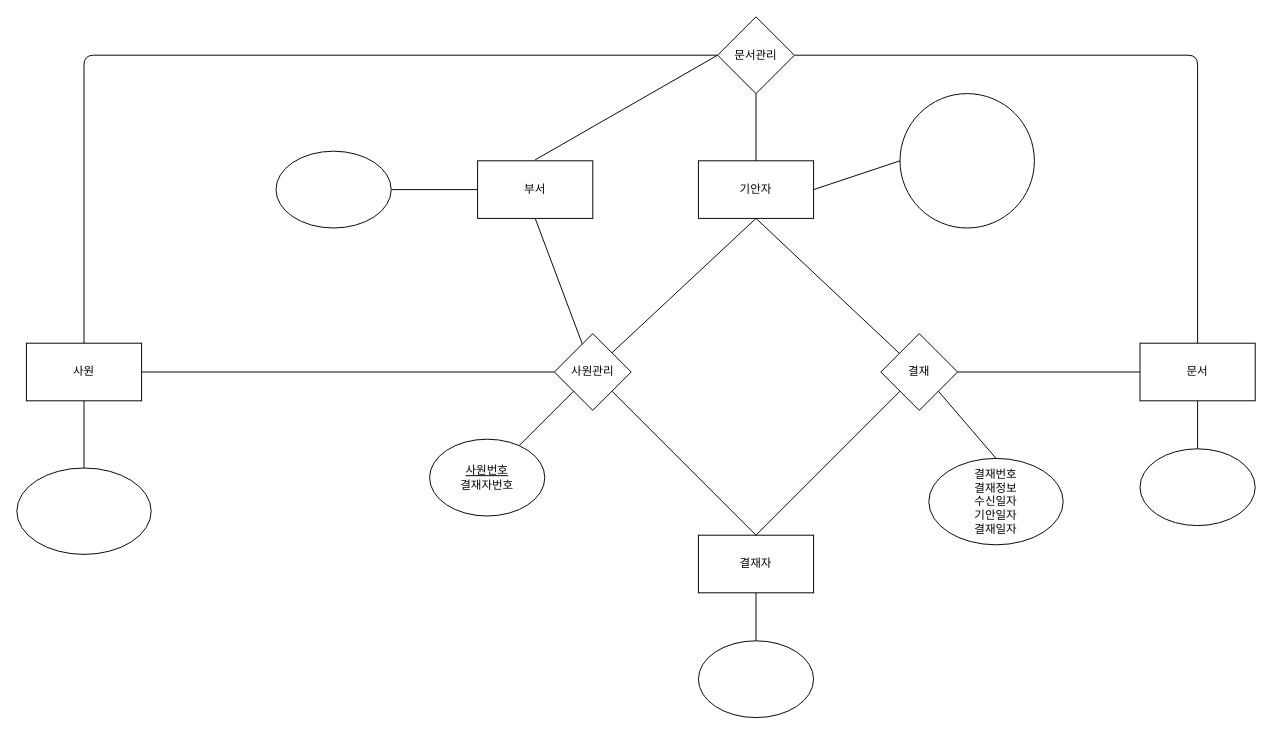
This 1272x734 diagram has some shape labels left out. The centre of each missing label's shape, as x and y in pixels:
결재자번호: the point at 755,679
문서번호 제목 내용 첨부파일: the point at 1197,487
부서코드 부서명: the point at 333,189
사원번호: the point at 966,160
사원번호 이름 부서코드 입사일자: the point at 83,510
